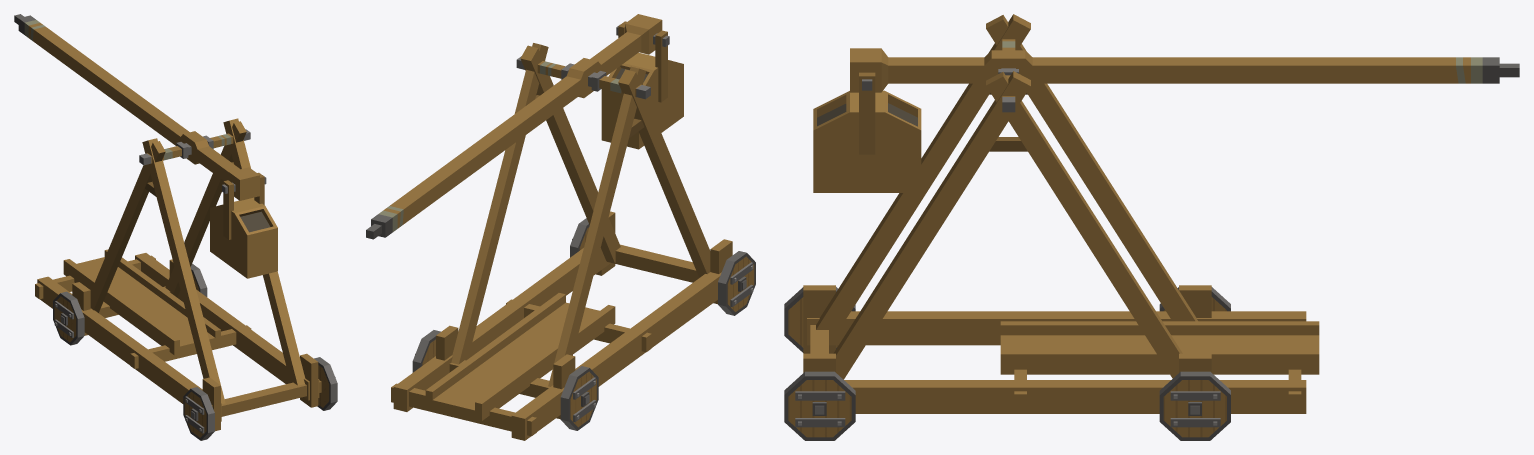
Rendered from Trebuchet.gltf.
The picture shows the model from 3 angles, left to right: view 1: azimuth 30°, elevation 25°; view 2: azimuth 150°, elevation 25°; view 3: azimuth 270°, elevation 25°; orthographic projection. The views are drawn at different scales.
Visible parts, largest first — view 1: SF_Veh_Trebuchet_01, SF_Veh_Trebuchet_Arm, SF_Veh_Trebuchet_Weight, SF_Veh_Trebuchet_WheelBR, SF_Veh_Trebuchet_WheelFR, SF_Veh_Trebuchet_WheelFL; view 2: SF_Veh_Trebuchet_01, SF_Veh_Trebuchet_Arm, SF_Veh_Trebuchet_Weight, SF_Veh_Trebuchet_WheelBR, SF_Veh_Trebuchet_WheelFR, SF_Veh_Trebuchet_WheelBL, SF_Veh_Trebuchet_WheelFL; view 3: SF_Veh_Trebuchet_01, SF_Veh_Trebuchet_Arm, SF_Veh_Trebuchet_Weight, SF_Veh_Trebuchet_WheelFL, SF_Veh_Trebuchet_WheelBL, SF_Veh_Trebuchet_WheelFR.
Boxes of the visible parts, x1,y1,x2,y2 form: SF_Veh_Trebuchet_01: [35, 118, 321, 431]; SF_Veh_Trebuchet_Arm: [14, 14, 259, 200]; SF_Veh_Trebuchet_Weight: [210, 172, 277, 278]; SF_Veh_Trebuchet_WheelBR: [53, 291, 84, 345]; SF_Veh_Trebuchet_WheelFR: [183, 387, 214, 440]; SF_Veh_Trebuchet_WheelFL: [314, 357, 337, 410]; SF_Veh_Trebuchet_01: [391, 43, 732, 440]; SF_Veh_Trebuchet_Arm: [366, 14, 662, 239]; SF_Veh_Trebuchet_Weight: [601, 21, 683, 149]; SF_Veh_Trebuchet_WheelBR: [560, 366, 598, 430]; SF_Veh_Trebuchet_WheelFR: [718, 251, 755, 315]; SF_Veh_Trebuchet_WheelBL: [412, 330, 440, 372]; SF_Veh_Trebuchet_WheelFL: [570, 218, 589, 257]; SF_Veh_Trebuchet_01: [803, 14, 1319, 413]; SF_Veh_Trebuchet_Arm: [850, 48, 1519, 92]; SF_Veh_Trebuchet_Weight: [813, 72, 921, 192]; SF_Veh_Trebuchet_WheelFL: [784, 371, 855, 440]; SF_Veh_Trebuchet_WheelBL: [1159, 371, 1230, 440]; SF_Veh_Trebuchet_WheelFR: [784, 287, 855, 352].
Size of the model in its own units: 0.0617 by 0.1055 by 0.2009.
Materials: 1 (1 with a texture image).
